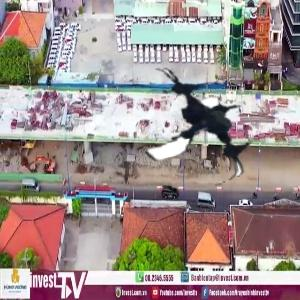drone: (133, 61, 263, 191)
